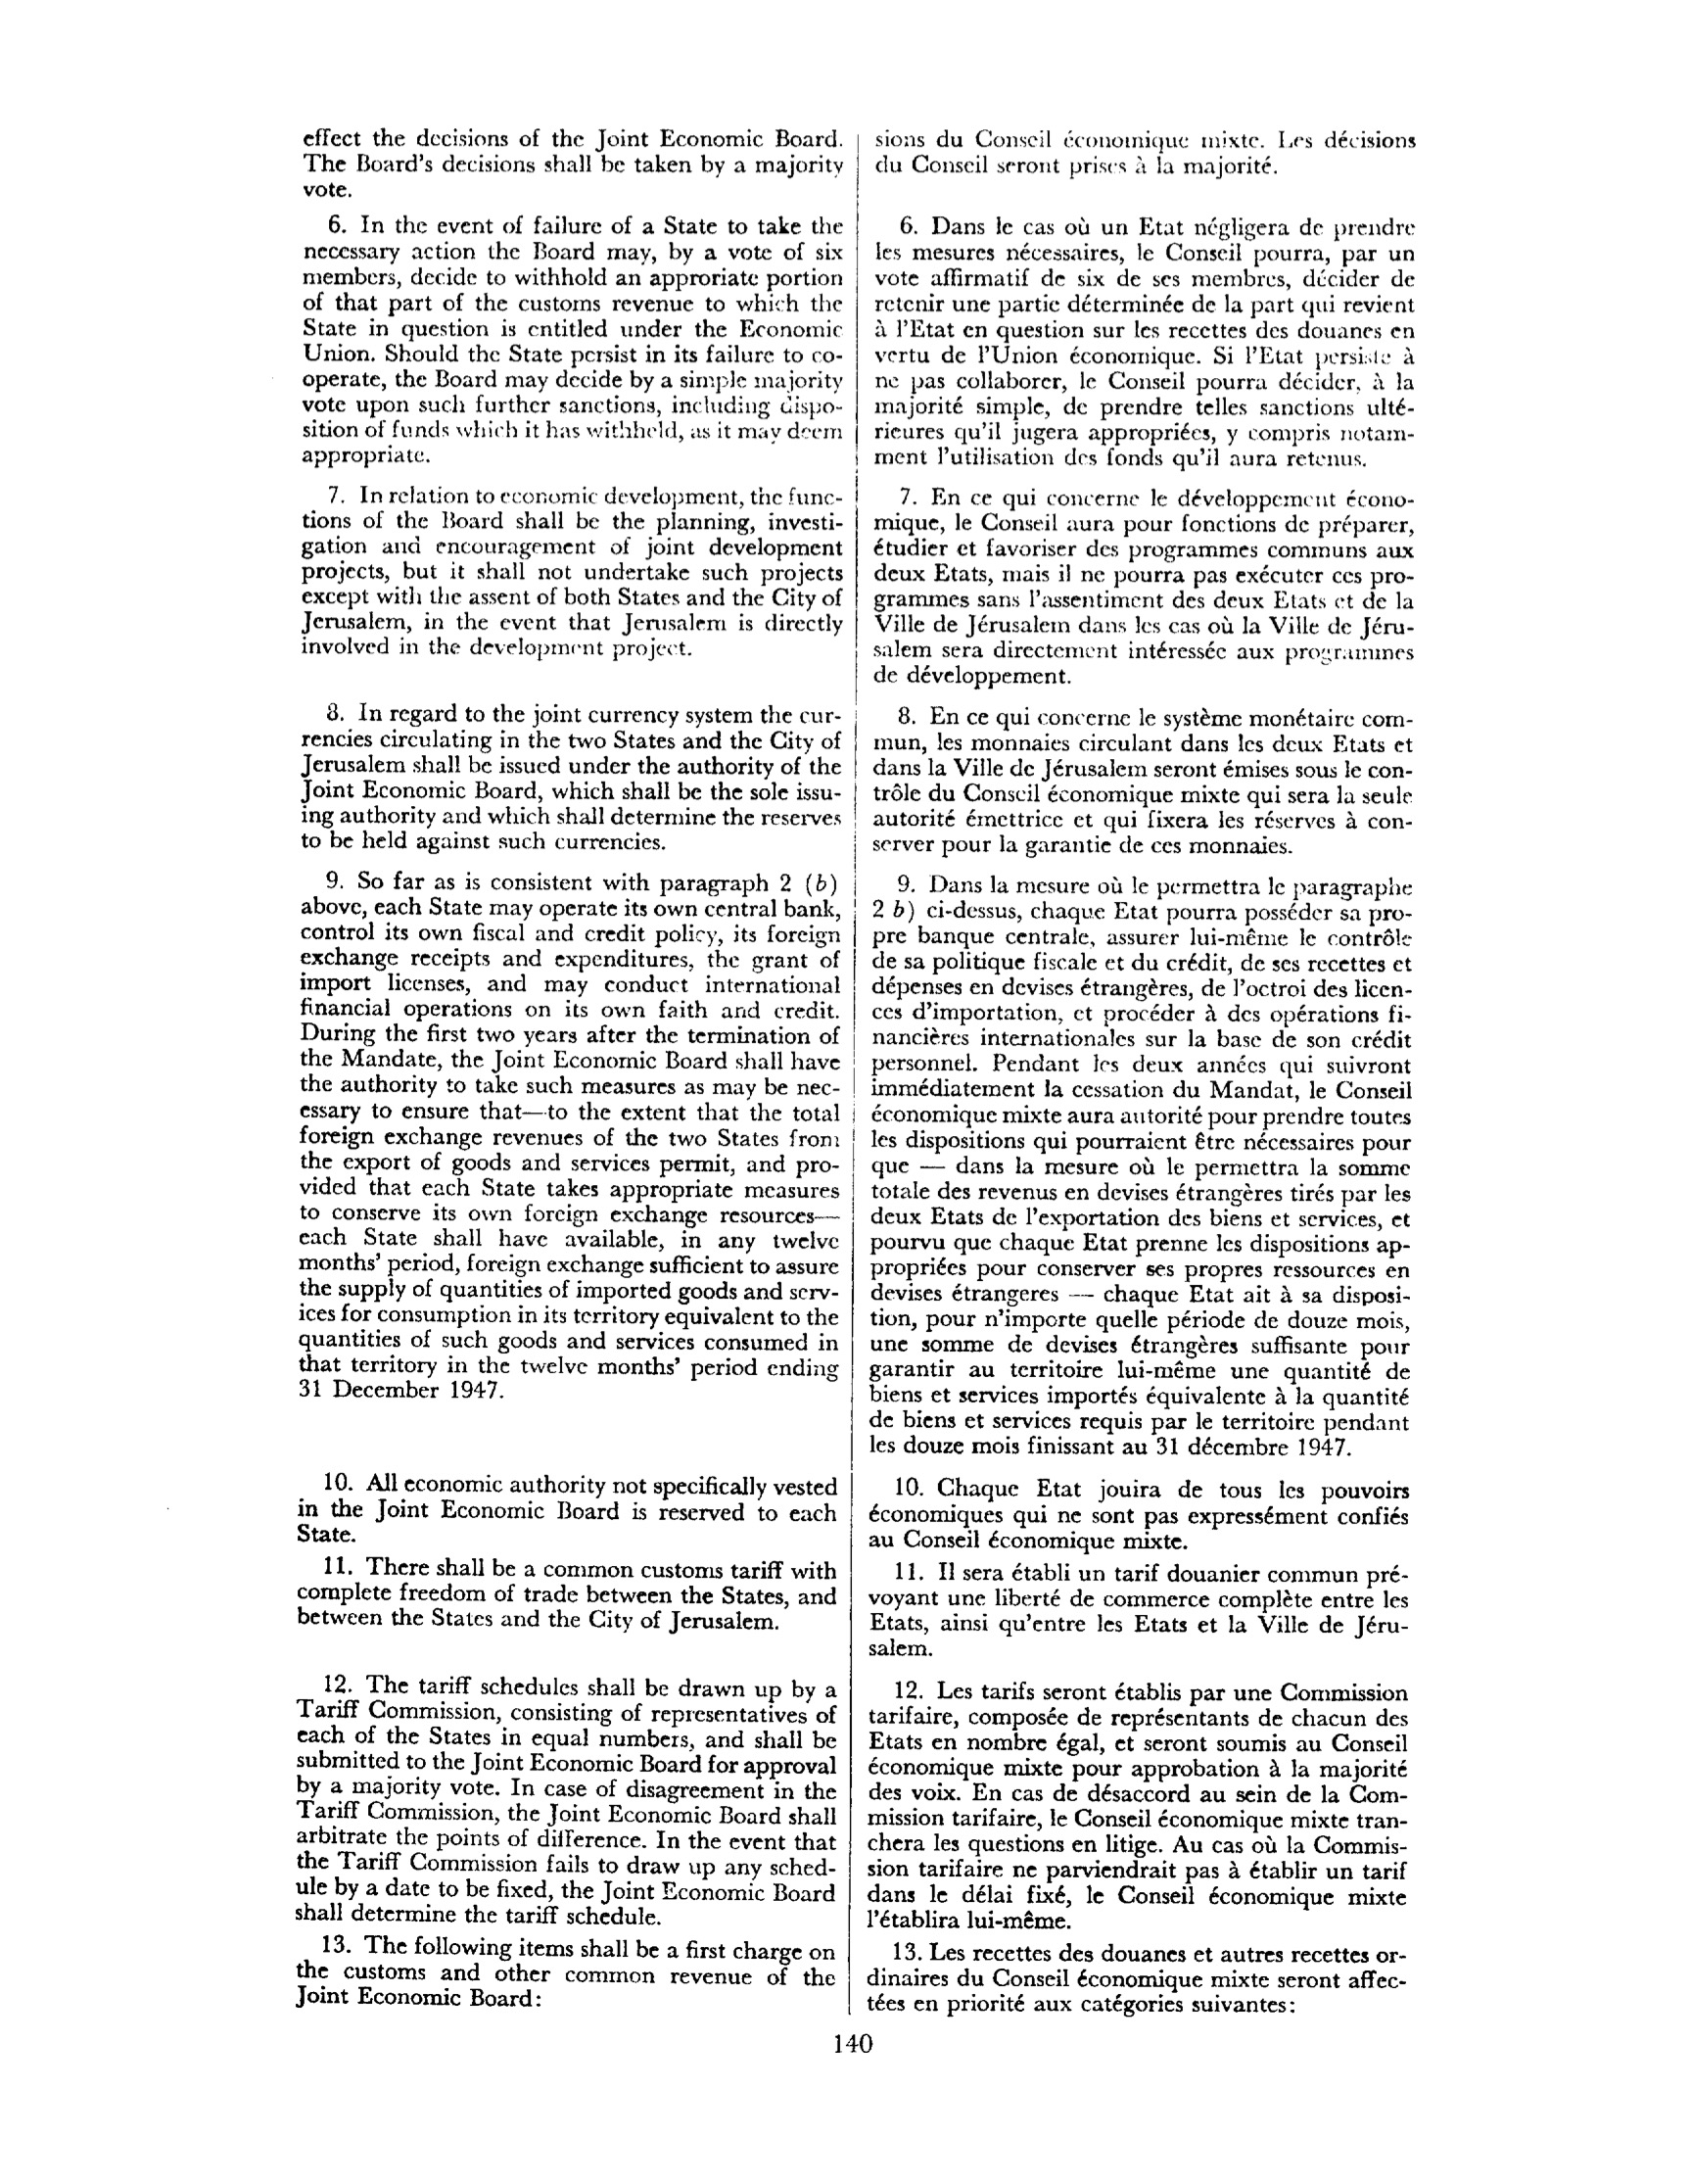MainZone-Continued: (291, 121, 847, 204), (867, 119, 1422, 186)
MainZone-ListItem: (863, 865, 1418, 1459), (292, 860, 845, 1408), (867, 207, 1422, 473), (287, 1668, 842, 1931), (296, 207, 847, 470), (861, 1673, 1414, 1934), (867, 480, 1420, 691), (292, 479, 847, 665), (867, 700, 1422, 860), (294, 697, 845, 856), (863, 1556, 1416, 1663), (285, 1931, 840, 2019), (863, 1470, 1416, 1556), (291, 1464, 842, 1551), (291, 1549, 842, 1636), (861, 1936, 1413, 2023)
TitlePageZone: (828, 2026, 877, 2062)
